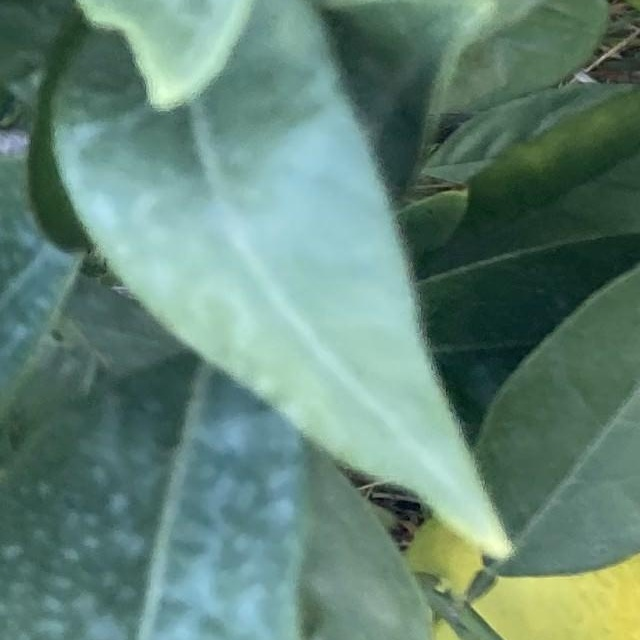orange: (398, 297, 638, 640)
